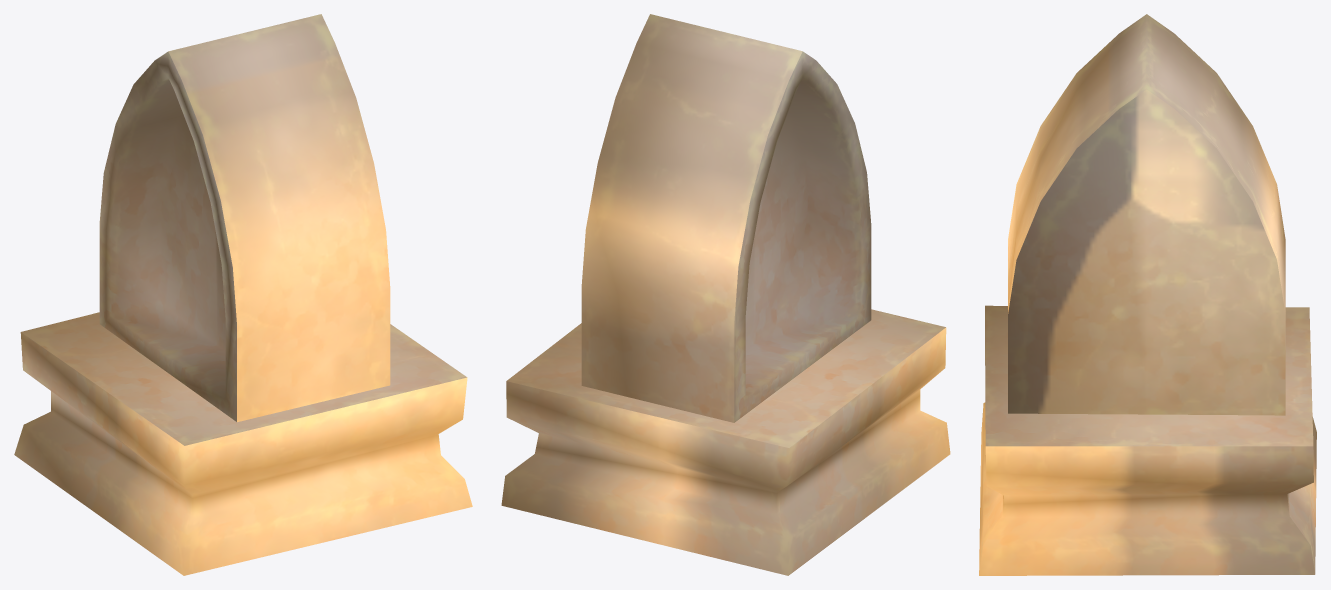
The model's file is SM_Stylized_Tombstone_D.fbx.
3 renders of one model, left to right at view 1: azimuth 30°, elevation 25°; view 2: azimuth 150°, elevation 25°; view 3: azimuth 270°, elevation 25°, orthographic.
Visible parts, largest first — view 1: SM_Stylized_Tombstone_D_LOD0; view 2: SM_Stylized_Tombstone_D_LOD0; view 3: SM_Stylized_Tombstone_D_LOD0.
Part boxes in pixels (bbox=[...]): SM_Stylized_Tombstone_D_LOD0: bbox=[14, 14, 472, 575]; SM_Stylized_Tombstone_D_LOD0: bbox=[501, 14, 950, 575]; SM_Stylized_Tombstone_D_LOD0: bbox=[979, 14, 1316, 575].
Bounding box in the file's own units: 64.53 × 64.21 × 94.98.
